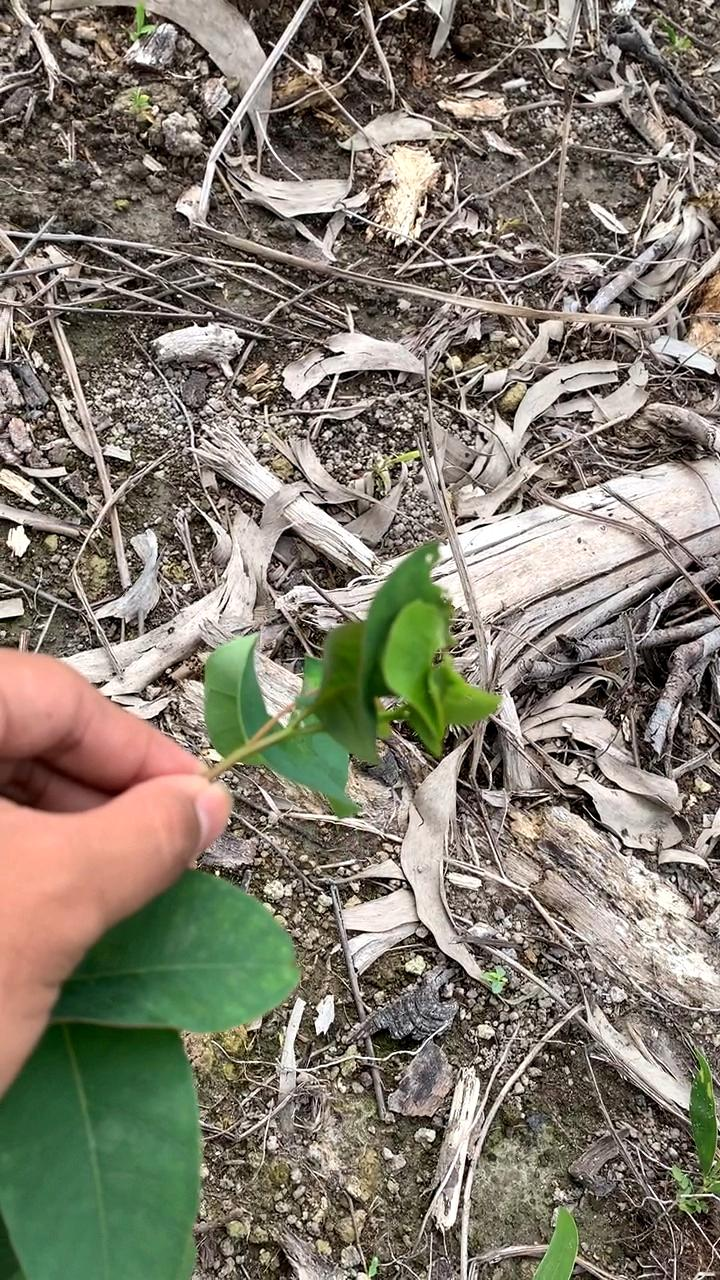Leaf Roller - Leaf: (290, 560, 501, 757)
